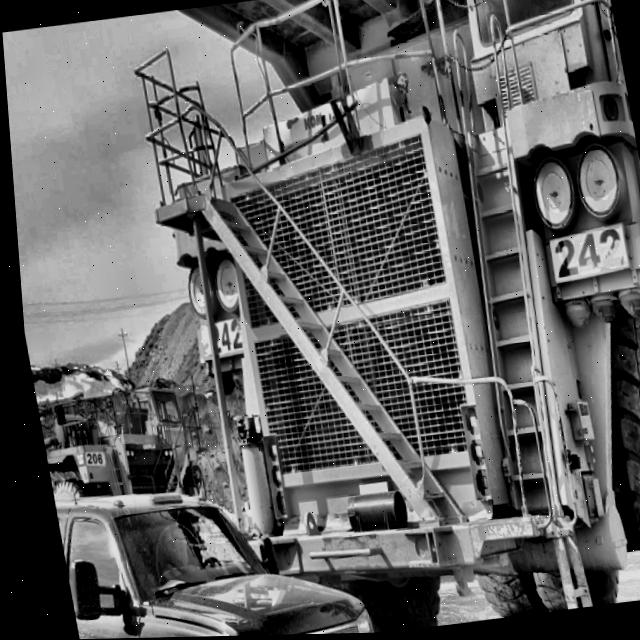dump_truck: (117, 0, 640, 638)
light_vehicle: (38, 428, 387, 640)
